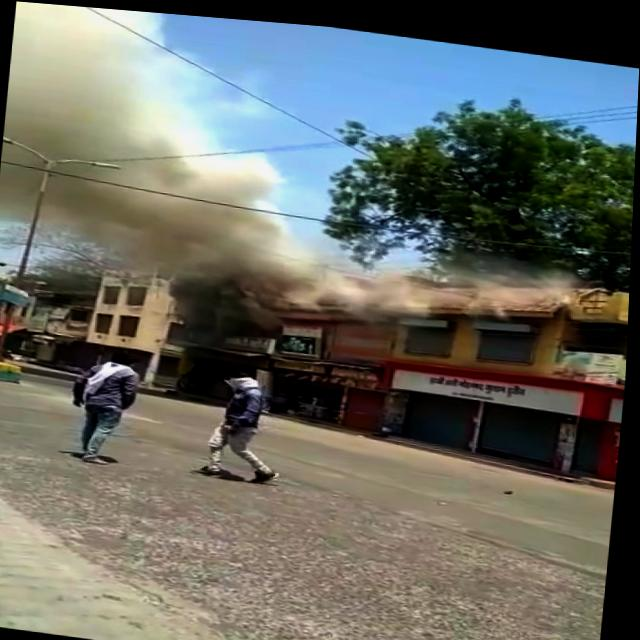Smoke: (0, 0, 601, 353)
